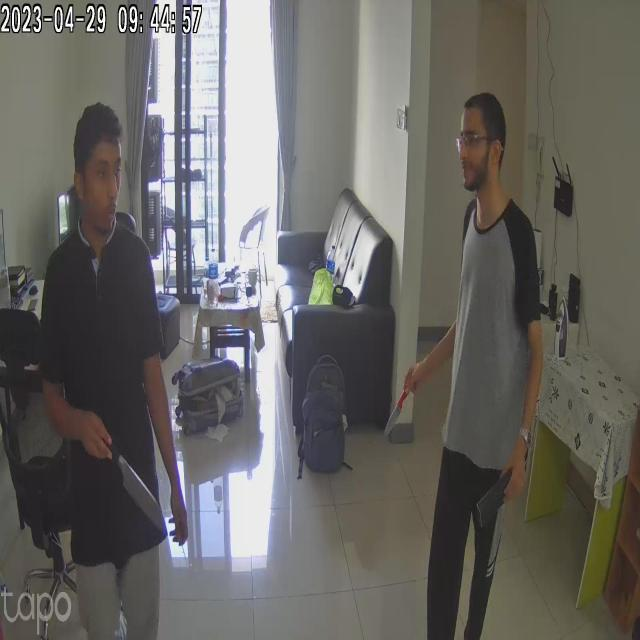Knife: (91, 428, 175, 542), (367, 375, 422, 447)
